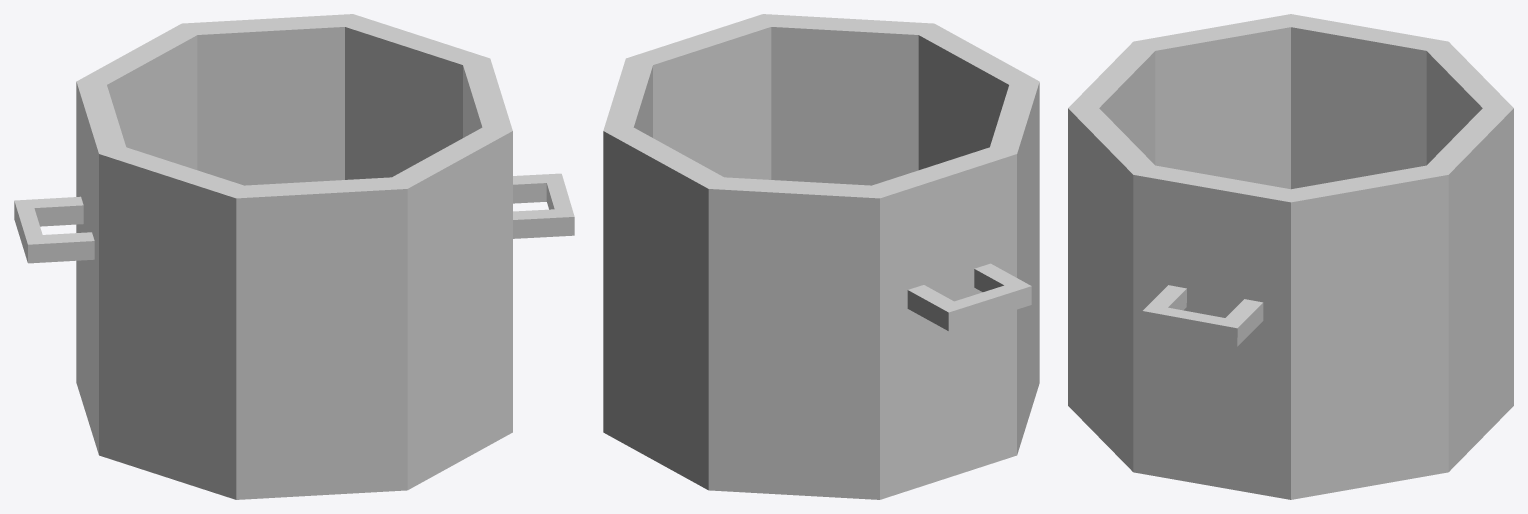
File: Pot.fbx
3 views of the same model, side by side, from view 1: azimuth 30°, elevation 25°; view 2: azimuth 150°, elevation 25°; view 3: azimuth 270°, elevation 25° (orthographic).
Visible parts, largest first — view 1: Cylinder; view 2: Cylinder; view 3: Cylinder.
Boxes of the visible parts, left/top/right/bottom form: Cylinder: left=14, top=14, right=574, bottom=499; Cylinder: left=603, top=14, right=1039, bottom=499; Cylinder: left=1068, top=14, right=1513, bottom=499.
Bounding box in the file's own units: 25.02 × 15.07 × 20.46.
